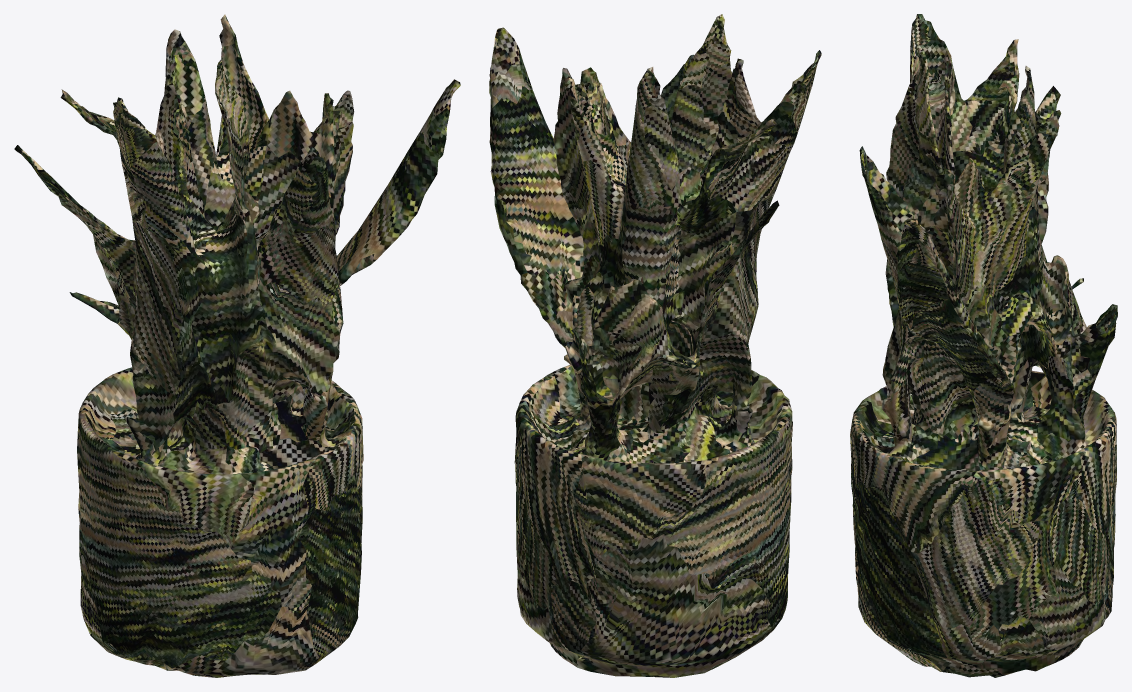
The model's file is plant_snake.glb.
3 renders of one model, left to right at view 1: azimuth 30°, elevation 25°; view 2: azimuth 150°, elevation 25°; view 3: azimuth 270°, elevation 25°, orthographic. The views are drawn at different scales.
Visible parts, largest first — view 1: Mesh; view 2: Mesh; view 3: Mesh.
Part boxes in pixels (box(x1,y1,x2,y2)): Mesh: box(14, 14, 460, 677); Mesh: box(489, 14, 821, 677); Mesh: box(850, 14, 1117, 677).
Size of the model in its own units: 0.5197 by 0.85 by 0.3579.
1 material, 1 textured.
